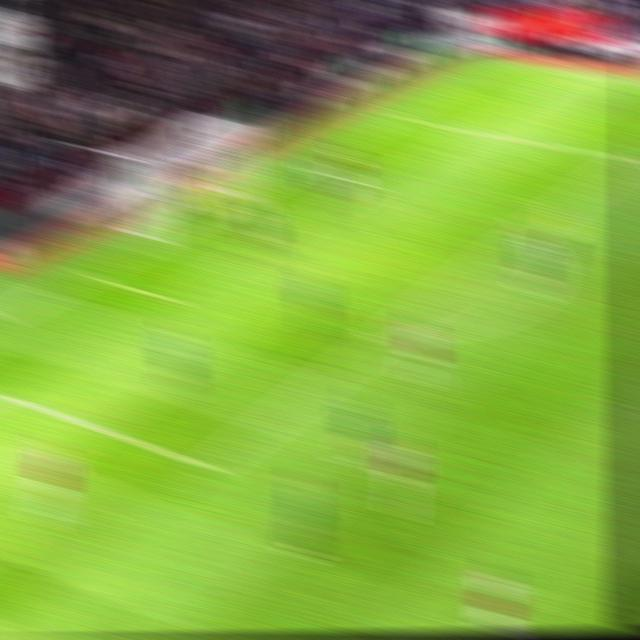bigarea_bottom_inner: (191, 449, 230, 484)
bigarea_top_inner: (616, 144, 640, 170)
bigarea_top_outter: (376, 106, 409, 126)
bottom_arc_area_intersection: (365, 326, 399, 352)
corner: (478, 52, 514, 72)
smallarea_bottom_inner: (152, 281, 189, 316)
smallarea_bottom_outter: (71, 260, 107, 286)
smallarea_top_inner: (353, 171, 389, 197)
smallarea_top_outter: (281, 155, 314, 177)
top_arc_area_intersection: (516, 220, 547, 242)
